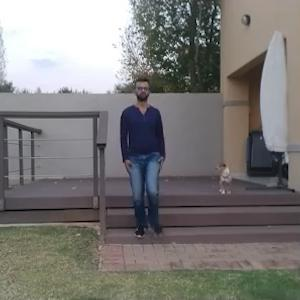follow: (119, 76, 159, 238)
